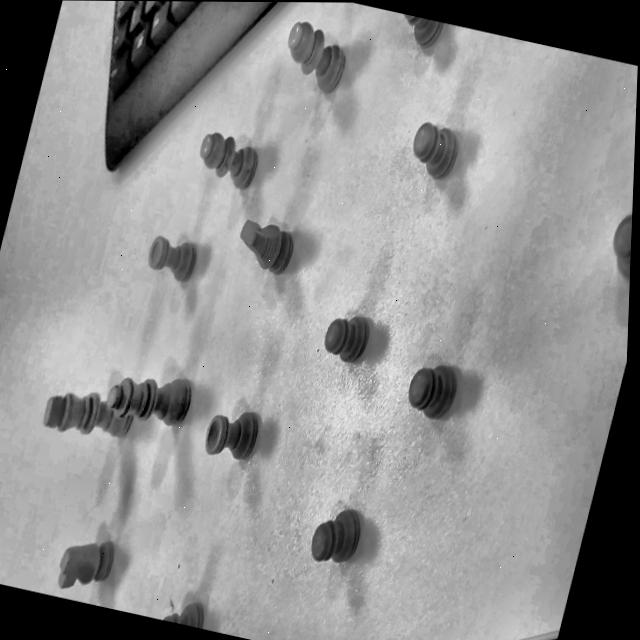white-bishop: (275, 17, 352, 95), (191, 128, 262, 190)
white-king: (38, 383, 135, 446)
white-knight: (51, 531, 117, 601), (230, 216, 298, 278)
white-pawn: (304, 502, 365, 570), (399, 358, 461, 423), (403, 118, 464, 183), (599, 196, 633, 288), (317, 309, 371, 366)
white-queen: (94, 355, 195, 438)
white-rook: (198, 404, 261, 464), (142, 233, 199, 284)
